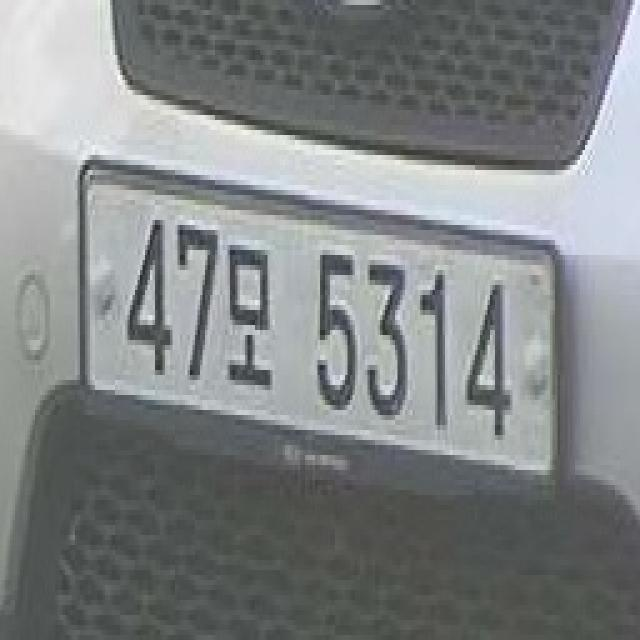1: (416, 261, 456, 440)
3: (364, 251, 412, 427)
4: (459, 270, 516, 444), (120, 205, 174, 388)
5: (314, 238, 359, 417)
7: (176, 206, 222, 392)
license_plate: (72, 138, 574, 529)
mo: (224, 234, 282, 397)
